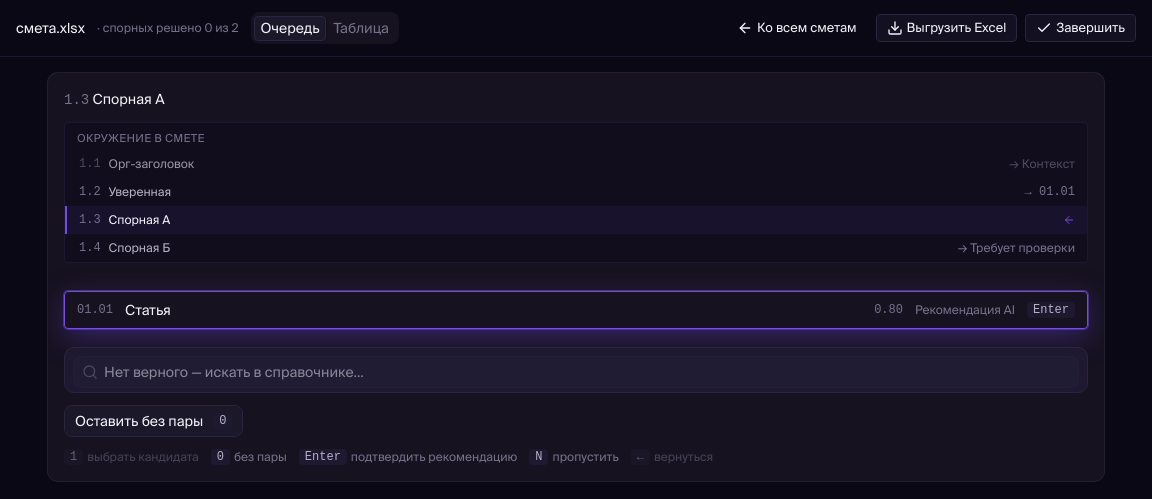
Test case: скраббер: навигация по полосе окружения › клик по соседу делает его активной строкой карточки
Expected: the 1st text "Спорная А" is shown, [92,91,164,107]
«Спорная Б» пока присутствует ТОЛЬКО в полосе окружения
Click the text "Спорная Б".
click(139, 248)  # box [109,240,170,256]
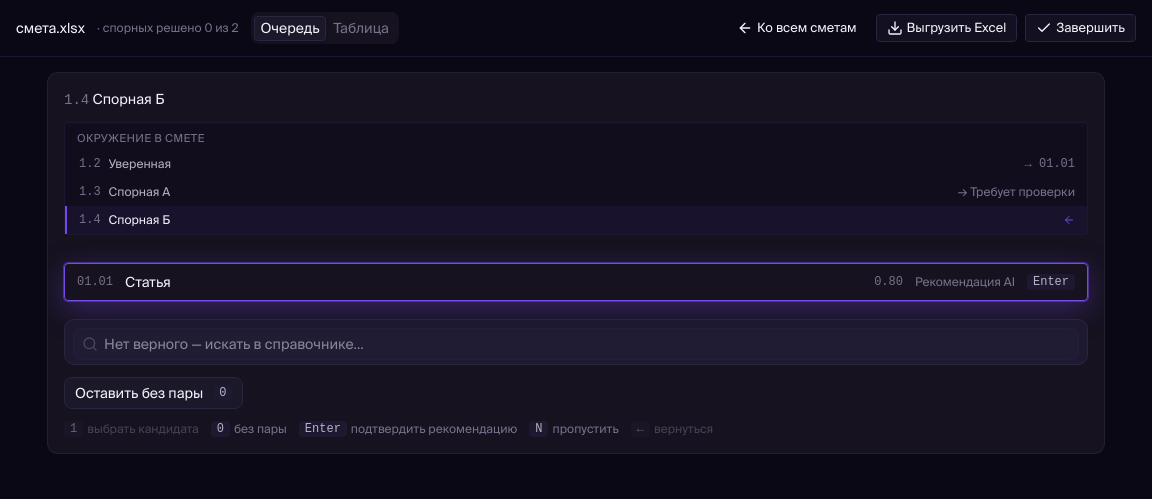
Expected: the 1st text "Спорная Б" is shown, [92,91,164,107]
